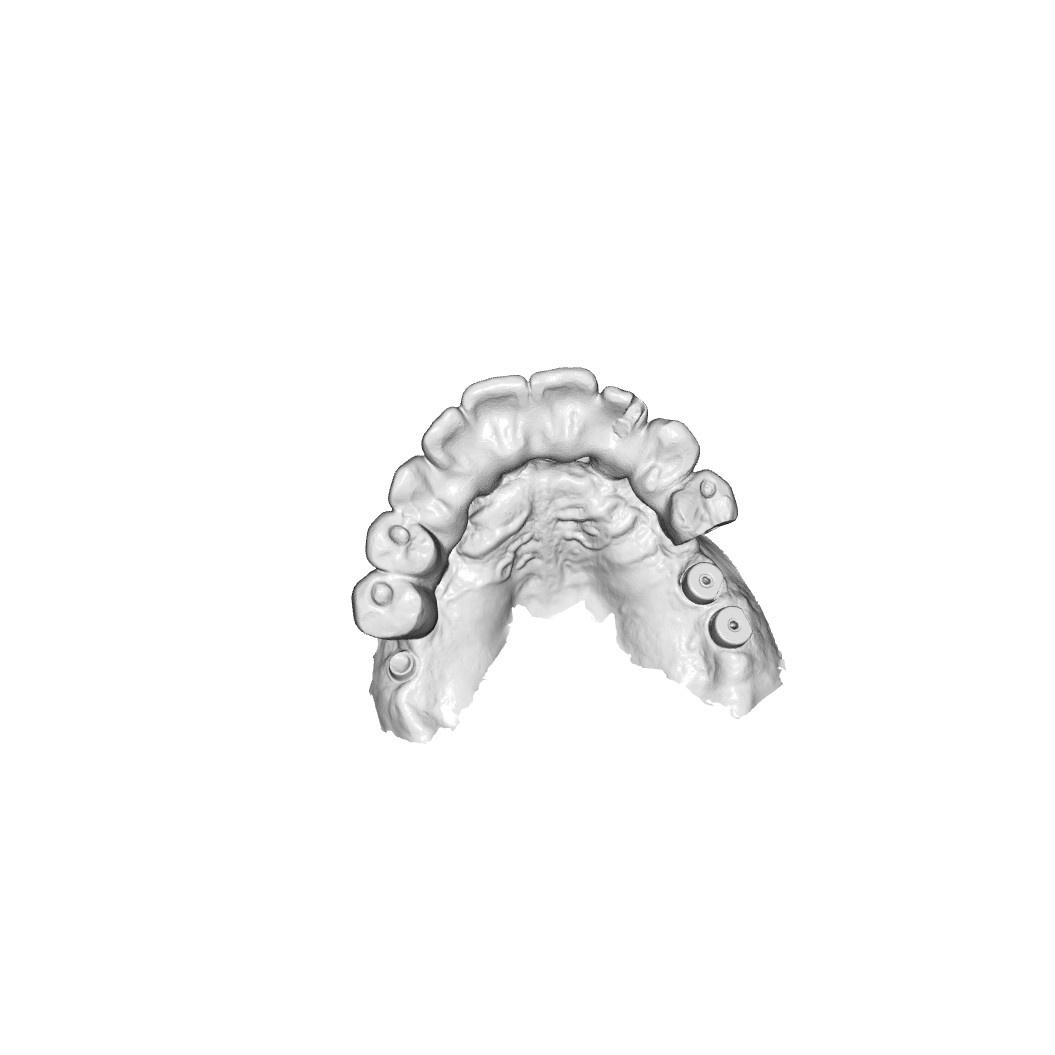canine: (389, 460, 468, 541), (643, 410, 693, 504)
implant: (678, 555, 730, 605), (709, 603, 755, 654), (386, 646, 413, 685)
incisor: (536, 366, 611, 452), (424, 405, 492, 488), (465, 374, 532, 455), (602, 384, 646, 476)
premolar: (668, 469, 736, 542), (354, 574, 428, 640), (365, 514, 434, 577)
